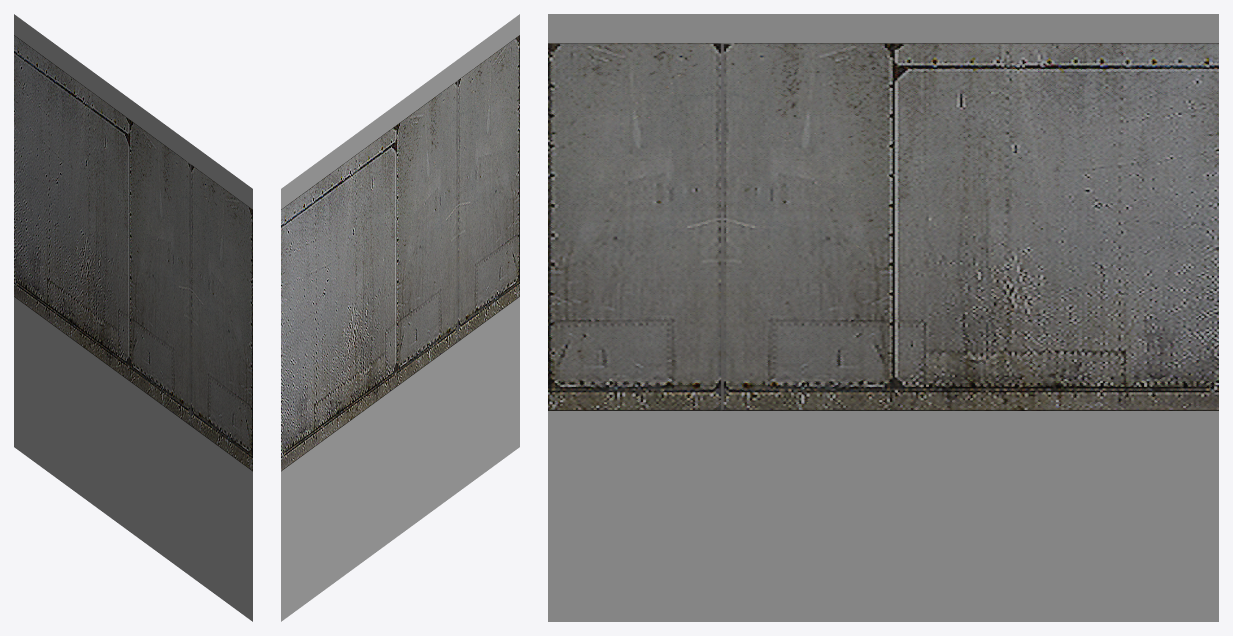
The model's file is Wall_A_Short2mts_02.fbx.
3 renders of one model, left to right at view 1: azimuth 30°, elevation 25°; view 2: azimuth 150°, elevation 25°; view 3: azimuth 270°, elevation 25°, orthographic. The views are drawn at different scales.
Parts seen in each view (by area): view 1: Wall_A_Short2mts_02; view 2: Wall_A_Short2mts_02; view 3: Wall_A_Short2mts_02.
Boxes of the visible parts, x1,y1,x2,y2 form: Wall_A_Short2mts_02: (14, 14, 252, 621); Wall_A_Short2mts_02: (281, 14, 519, 621); Wall_A_Short2mts_02: (548, 14, 1218, 621).
Bounding box in the file's own units: 0.00029 × 200 × 200.
